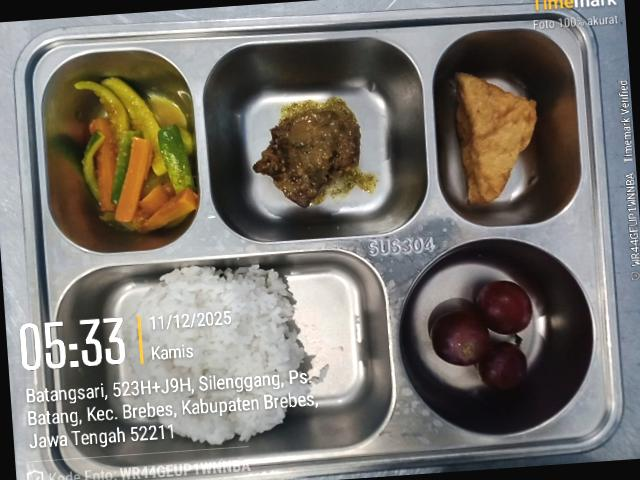ayam: (253, 108, 360, 208)
nasi: (121, 265, 314, 444), (430, 281, 533, 390)
sayur: (74, 77, 199, 232)
tahu: (455, 73, 536, 204)
